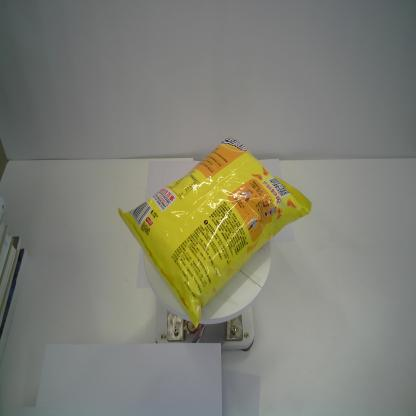Puffed Food: (118, 136, 313, 330)
